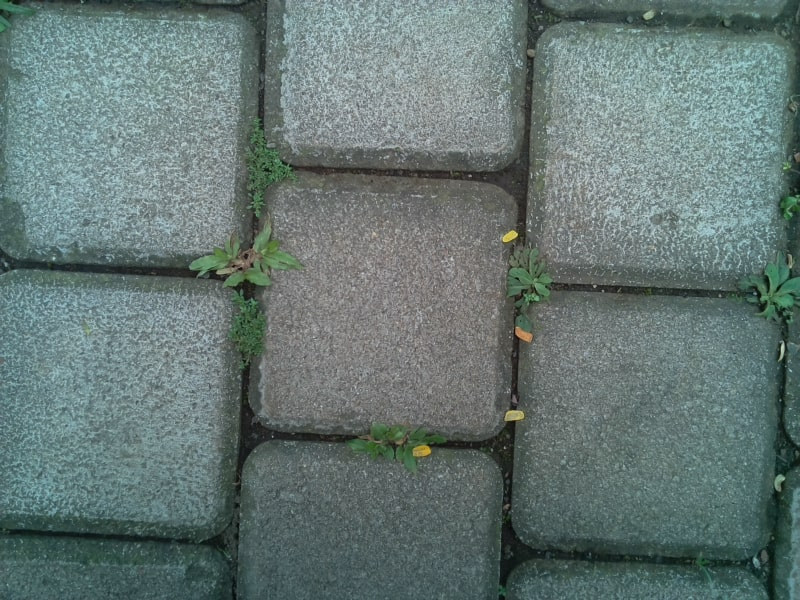Weed: (186, 223, 304, 288), (244, 112, 296, 221), (348, 422, 448, 473), (741, 253, 800, 327), (227, 290, 268, 366), (508, 247, 553, 316), (692, 548, 713, 582), (495, 579, 510, 597)
